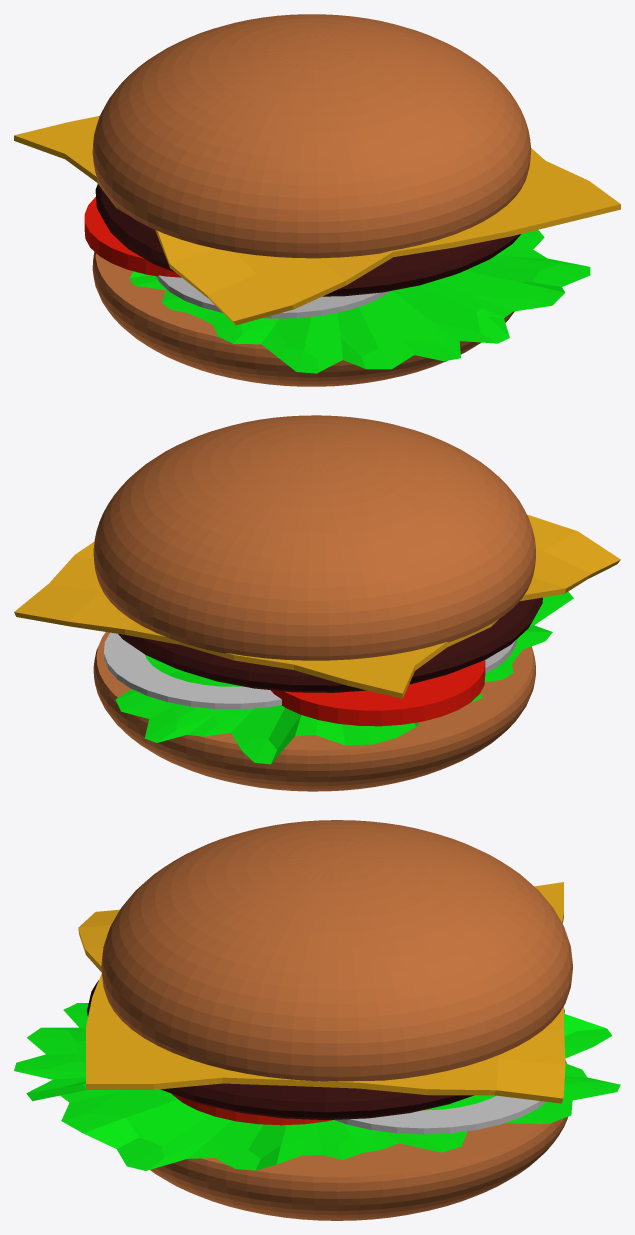
The model's file is burger.fbx.
3 views of the same model, one above another, from view 1: azimuth 30°, elevation 25°; view 2: azimuth 150°, elevation 25°; view 3: azimuth 270°, elevation 25° (orthographic). The views are drawn at different scales.
Visible parts, largest first — view 1: bulka, salat, sir, bulka2, kotleta, luk, pomidor.001; view 2: bulka, bulka2, sir, salat, kotleta, pomidor.001, luk.001; view 3: bulka, salat, bulka2, sir, kotleta, luk.001, pomidor.
Part boxes in pixels (bbox=[...]): bulka: bbox=[92, 14, 530, 258]; salat: bbox=[129, 229, 590, 373]; sir: bbox=[14, 116, 620, 325]; bulka2: bbox=[92, 252, 514, 386]; kotleta: bbox=[95, 184, 520, 296]; luk: bbox=[156, 275, 390, 318]; pomidor.001: bbox=[84, 197, 181, 277]; bulka: bbox=[93, 415, 535, 660]; bulka2: bbox=[93, 632, 535, 791]; sir: bbox=[14, 514, 620, 698]; salat: bbox=[115, 591, 573, 764]; kotleta: bbox=[118, 597, 542, 692]; pomidor.001: bbox=[270, 660, 485, 726]; luk.001: bbox=[104, 632, 281, 709]; bulka: bbox=[101, 820, 572, 1081]; salat: bbox=[14, 1003, 620, 1170]; bulka2: bbox=[150, 1060, 567, 1220]; sir: bbox=[78, 882, 565, 1103]; kotleta: bbox=[86, 980, 564, 1120]; luk.001: bbox=[334, 1095, 546, 1134]; pomidor: bbox=[172, 1094, 332, 1125].
Size of the model in its own units: 203 by 146 by 254.
